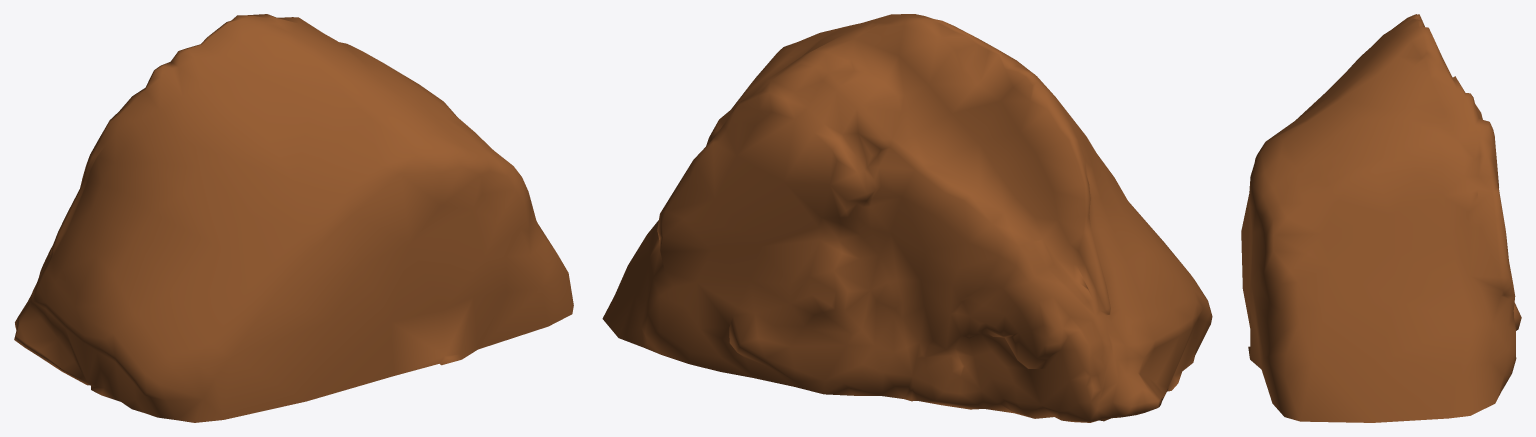
Rendered from MSH_Rocks_Boulder_01.FBX.
3 renders of one model, left to right at view 1: azimuth 30°, elevation 25°; view 2: azimuth 150°, elevation 25°; view 3: azimuth 270°, elevation 25°, orthographic. The views are drawn at different scales.
Visible parts, largest first — view 1: MESH_LOD0; view 2: MESH_LOD0; view 3: MESH_LOD0.
Part boxes in pixels (bbox=[...]): MESH_LOD0: bbox=[14, 14, 573, 422]; MESH_LOD0: bbox=[602, 14, 1212, 422]; MESH_LOD0: bbox=[1241, 14, 1521, 422].
Size of what is drawn, in the model's own units: 96.35 by 57.71 by 53.11.
